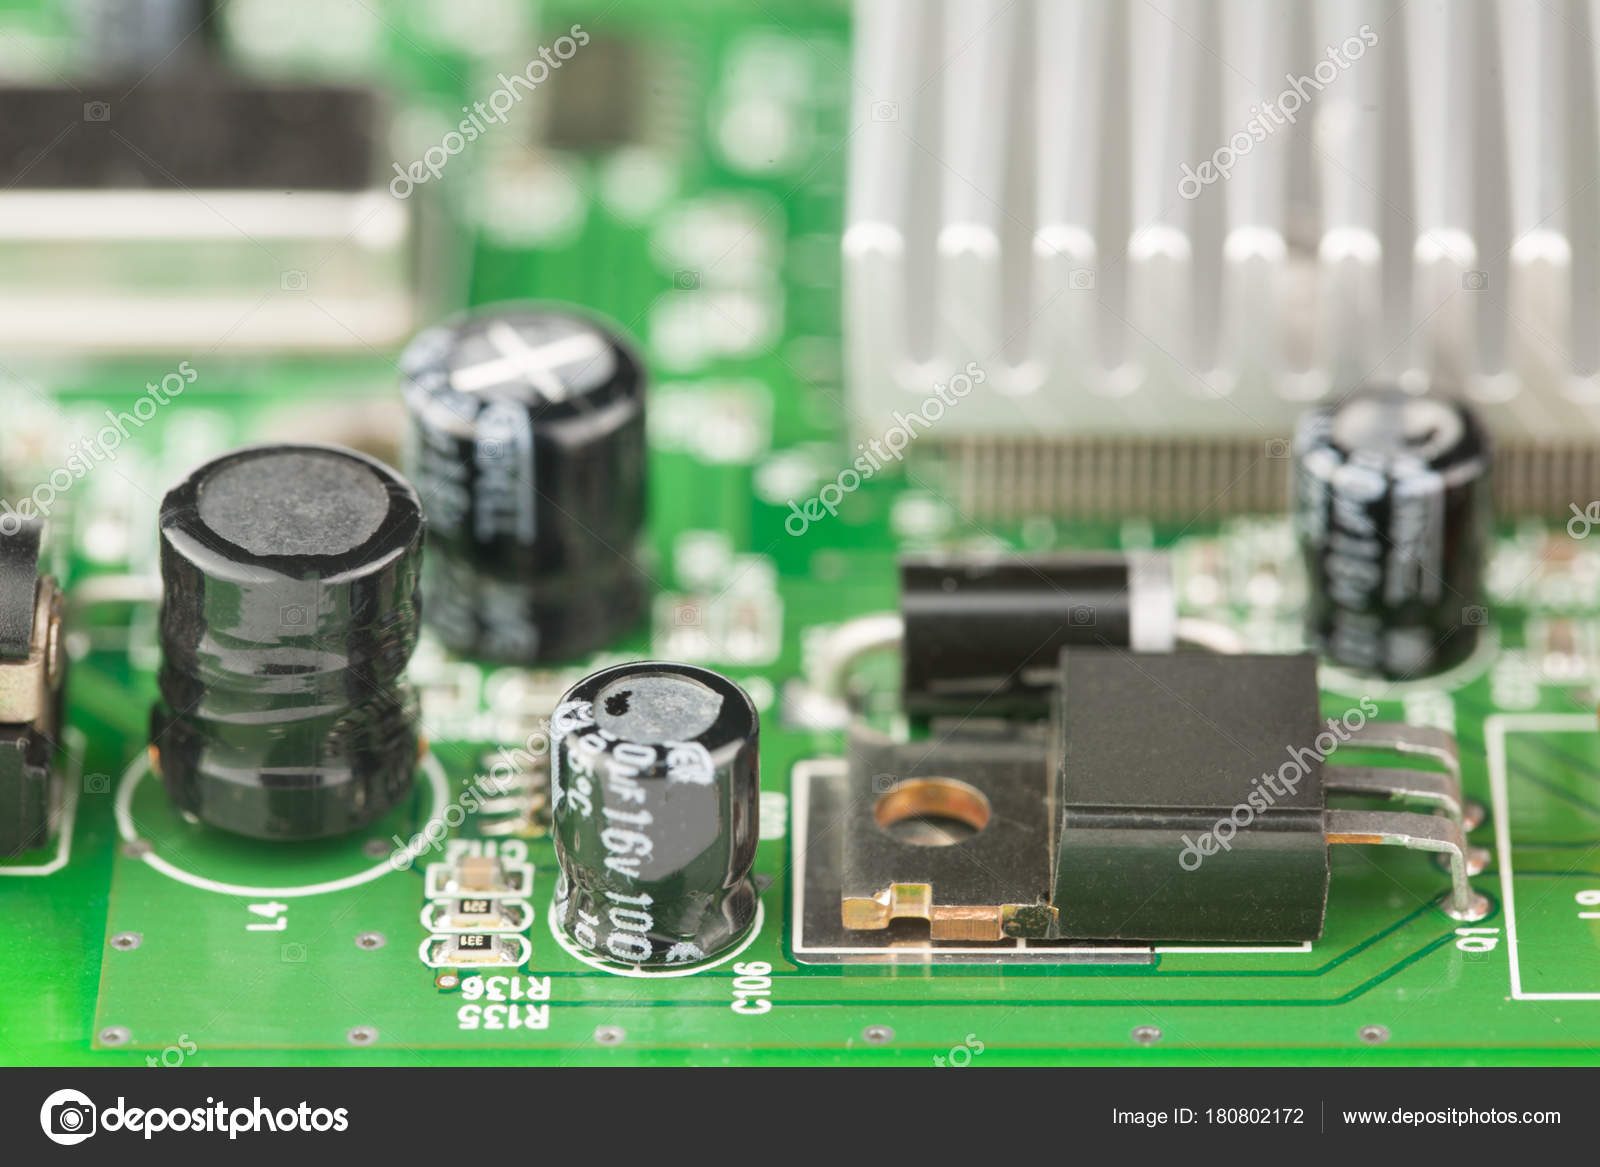capacitor: (155, 444, 429, 848), (401, 301, 642, 662), (549, 662, 760, 977), (1292, 389, 1488, 676)
